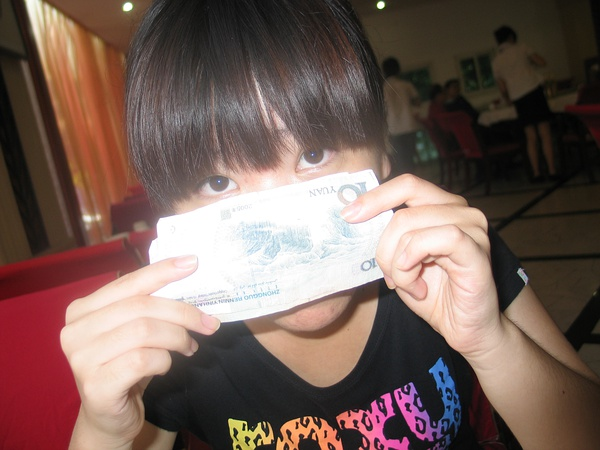face: (162, 121, 382, 332)
